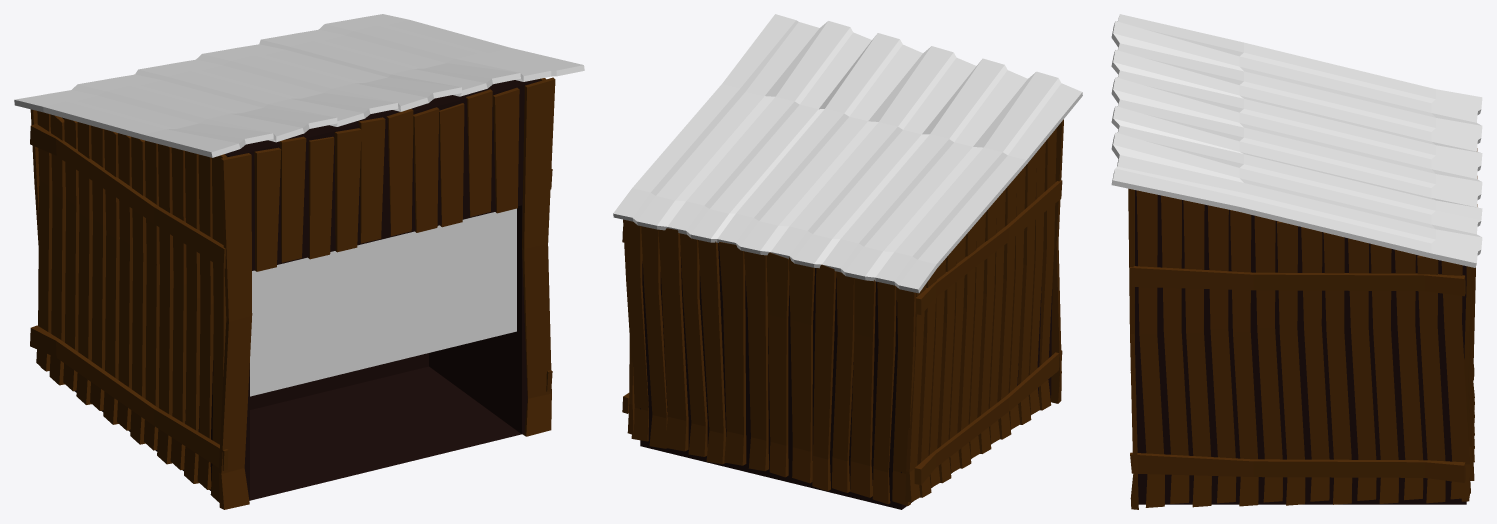
Rendered from garage.fbx.
3 views of the same model, side by side, from view 1: azimuth 30°, elevation 25°; view 2: azimuth 150°, elevation 25°; view 3: azimuth 270°, elevation 25° (orthographic). The views are drawn at different scales.
Parts seen in each view (by area): view 1: garage, garage.001; view 2: garage; view 3: garage.
Part boxes in pixels (x1,y1,x2,y2): garage: (14,14,584,509); garage.001: (250,208,516,396); garage: (613,14,1082,509); garage: (1111,14,1482,509).
Bounding box in the file's own units: 123 × 120 × 116.
